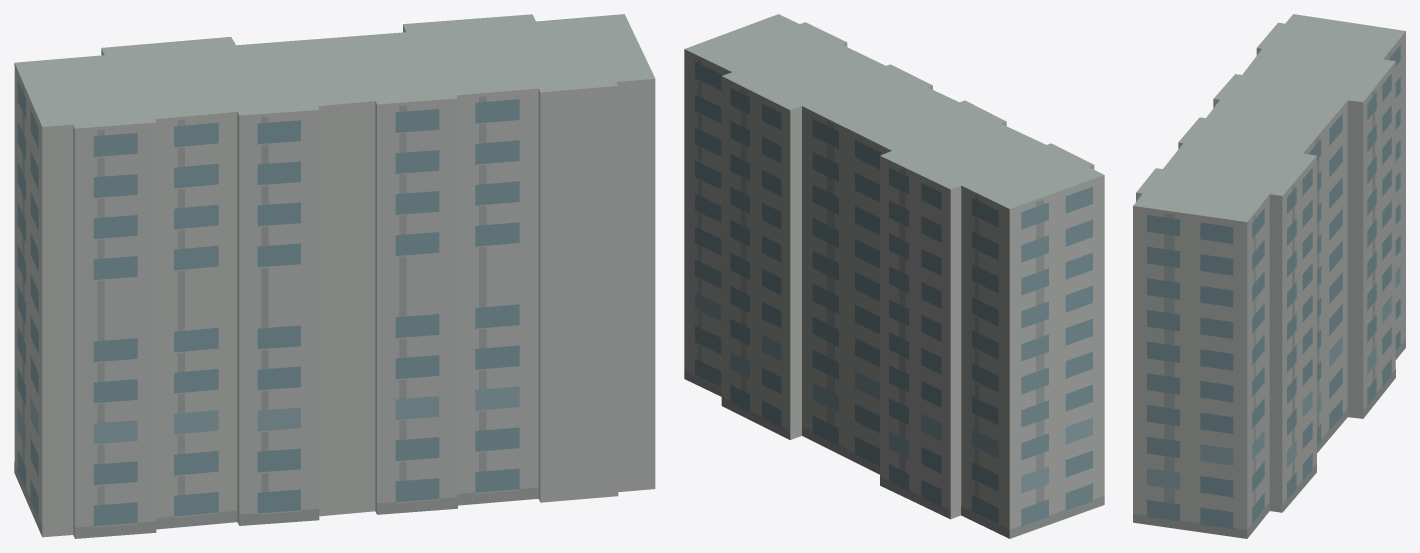
File: residential-7bf5e604-063f-4c00-9282-397b880ca968.glb
3 views of the same model, side by side, from view 1: azimuth 30°, elevation 25°; view 2: azimuth 150°, elevation 25°; view 3: azimuth 270°, elevation 25° (orthographic). The views are drawn at different scales.
Parts seen in each view (by area): view 1: residential-7bf5e604-063f-4c00-9282-397b880ca968.tmp; view 2: residential-7bf5e604-063f-4c00-9282-397b880ca968.tmp; view 3: residential-7bf5e604-063f-4c00-9282-397b880ca968.tmp.
Boxes of the visible parts, x1=… form: residential-7bf5e604-063f-4c00-9282-397b880ca968.tmp: x1=14, y1=14, x2=655, y2=538; residential-7bf5e604-063f-4c00-9282-397b880ca968.tmp: x1=684, y1=14, x2=1104, y2=538; residential-7bf5e604-063f-4c00-9282-397b880ca968.tmp: x1=1133, y1=14, x2=1405, y2=538.
Bounding box in the file's own units: 42.29 × 30 × 23.43.
